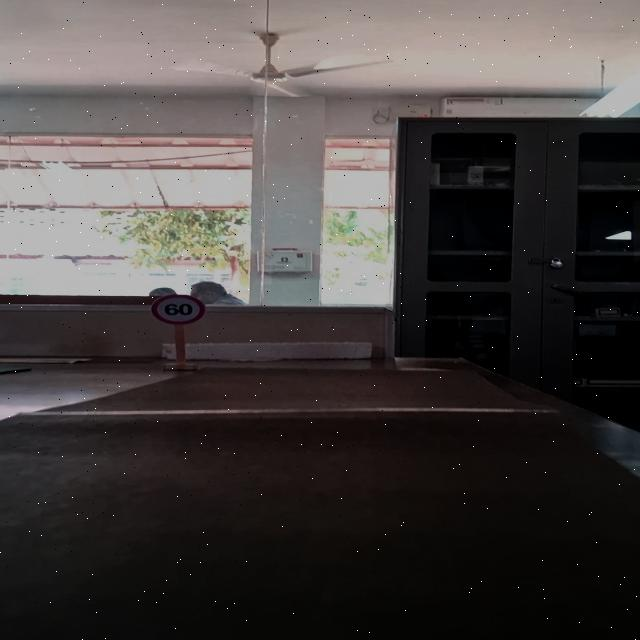Speed60: (150, 294, 206, 326)
